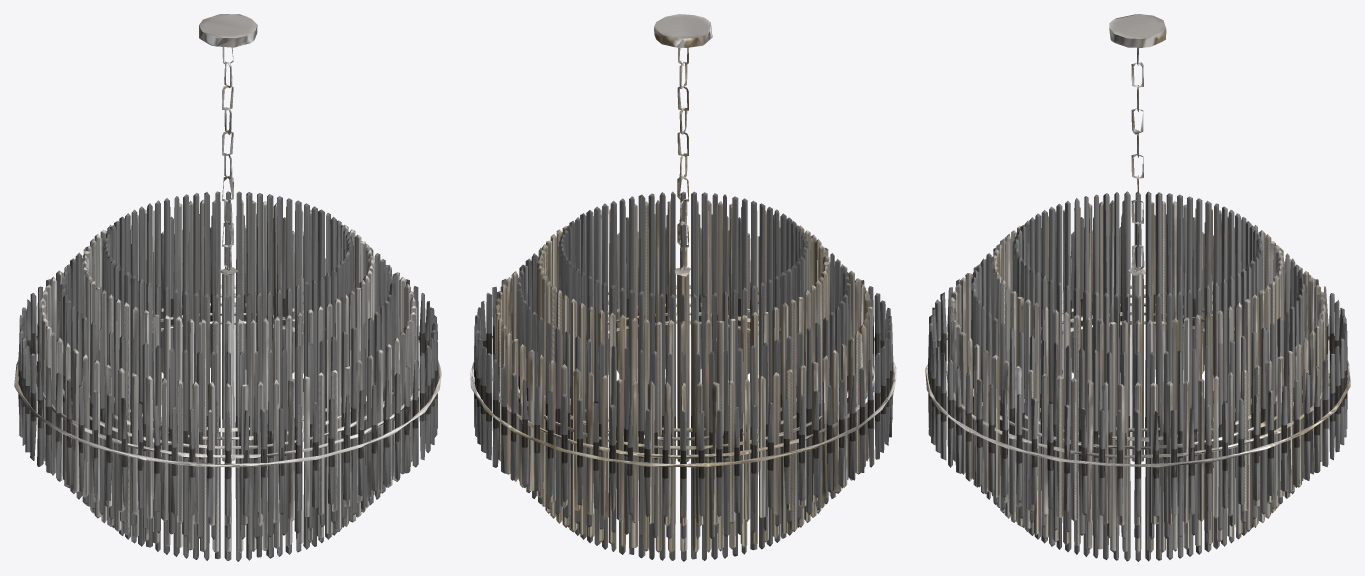
The picture shows the model from 3 angles, left to right: view 1: azimuth 30°, elevation 25°; view 2: azimuth 150°, elevation 25°; view 3: azimuth 270°, elevation 25°; orthographic projection.
Parts seen in each view (by area): view 1: glass_001, solid_001, glass_002; view 2: glass_001, solid_001, glass_002; view 3: glass_001, solid_001, glass_002.
Boxes of the visible parts, x1=… form: glass_001: x1=18, y1=191, x2=438, y2=561; solid_001: x1=14, y1=14, x2=441, y2=553; glass_002: x1=18, y1=294, x2=438, y2=478; glass_001: x1=474, y1=191, x2=893, y2=561; solid_001: x1=470, y1=14, x2=896, y2=553; glass_002: x1=474, y1=294, x2=893, y2=478; glass_001: x1=928, y1=191, x2=1347, y2=561; solid_001: x1=925, y1=14, x2=1350, y2=553; glass_002: x1=928, y1=294, x2=1347, y2=478.
Bounding box in the file's own units: 1.14 × 1.43 × 1.14.
Materials: 1 (1 with a texture image).
